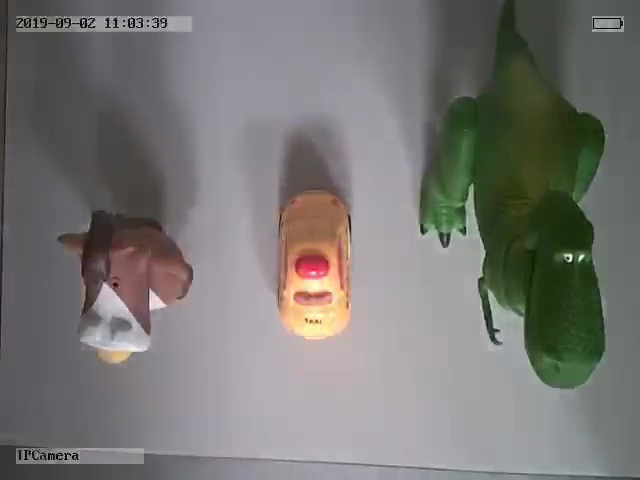car: (279, 188, 353, 340)
horse: (59, 209, 194, 366)
rex: (420, 14, 607, 389)
